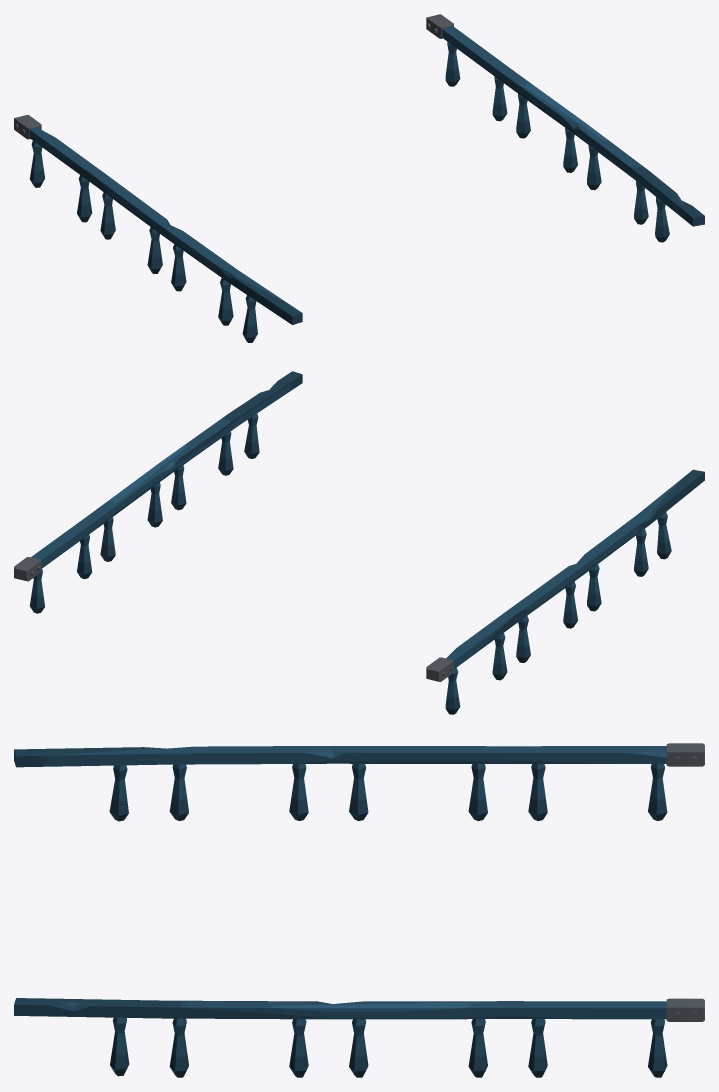
The model's file is SM_Veh_Ship_L_Middle_01.fbx.
3 views of the same model, one above another, from view 1: azimuth 30°, elevation 25°; view 2: azimuth 150°, elevation 25°; view 3: azimuth 270°, elevation 25° (orthographic). The views are drawn at different scales.
Parts seen in each view (by area): view 1: SM_Veh_Ship_L_Middle_01; view 2: SM_Veh_Ship_L_Middle_01; view 3: SM_Veh_Ship_L_Middle_01.
Part boxes in pixels (x1,y1,x2,y2): SM_Veh_Ship_L_Middle_01: [14, 14, 704, 342]; SM_Veh_Ship_L_Middle_01: [14, 371, 704, 714]; SM_Veh_Ship_L_Middle_01: [14, 743, 704, 1077].
Size of the model in its own units: 1008 by 128 by 1107.
Materials: 1 (1 with a texture image).
